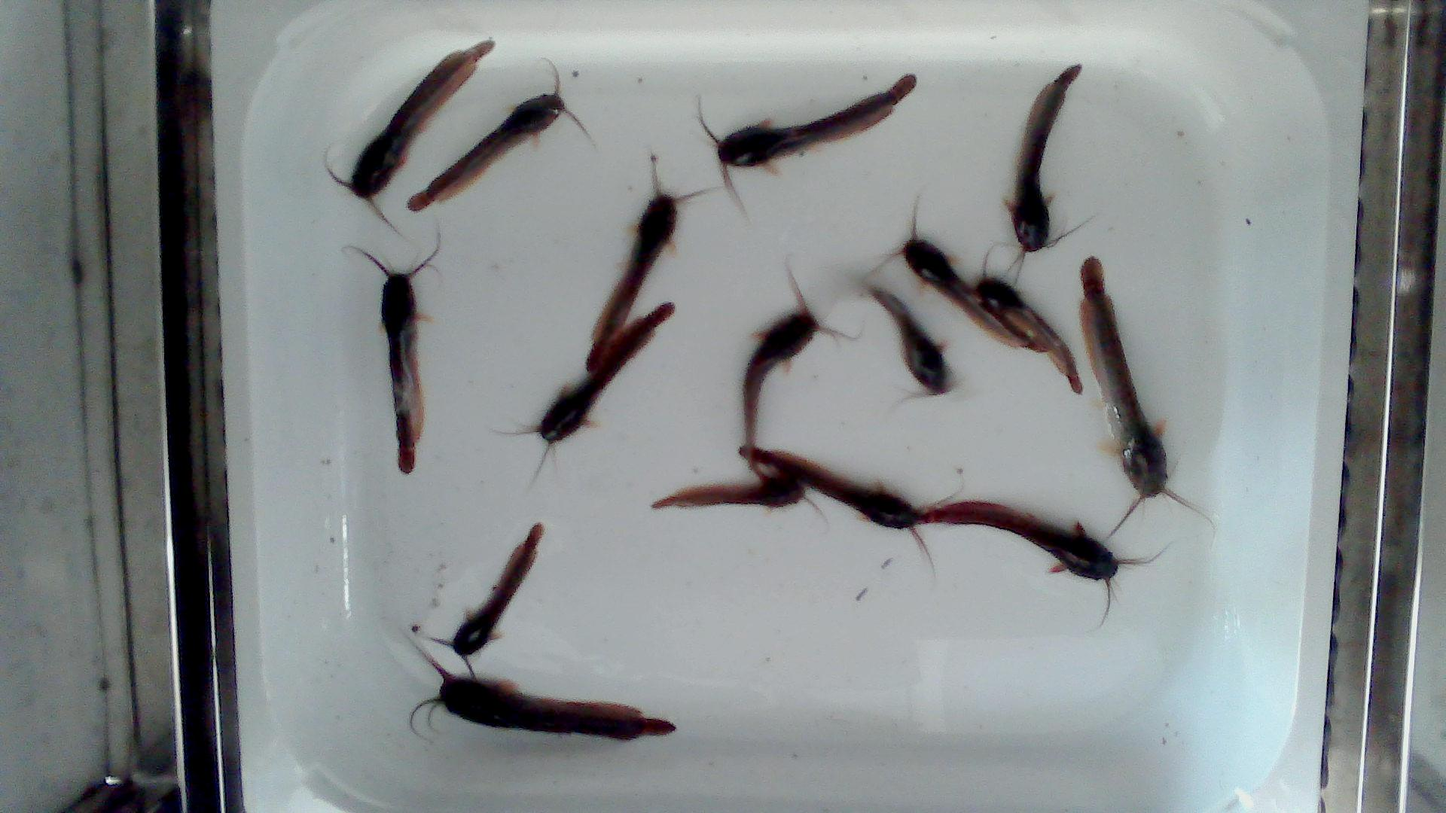lele: (492, 301, 674, 476), (585, 153, 717, 372), (870, 191, 1044, 354), (352, 41, 494, 199), (1081, 256, 1167, 496), (432, 662, 676, 740), (408, 93, 563, 210), (718, 75, 915, 166), (920, 500, 1141, 580), (976, 262, 1084, 394), (1008, 65, 1081, 251), (757, 449, 923, 528), (364, 254, 423, 473), (448, 523, 543, 657), (743, 303, 819, 450), (868, 286, 951, 394), (652, 467, 804, 509)
